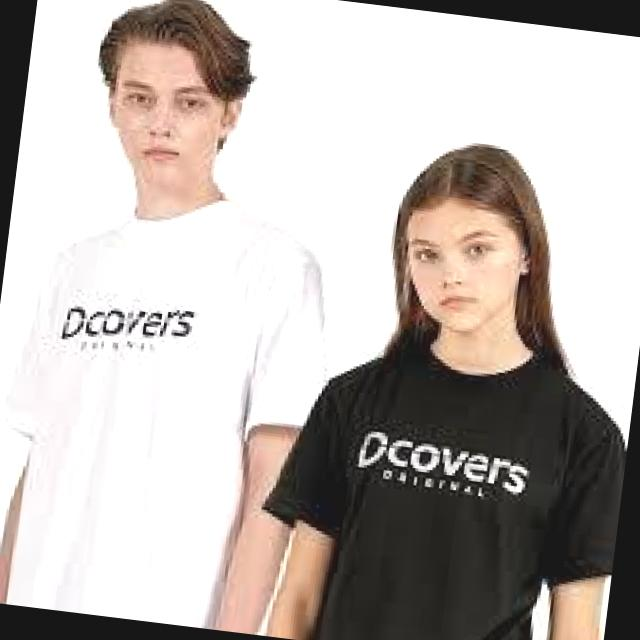Tshirt: (0, 170, 345, 639), (242, 319, 637, 640)
